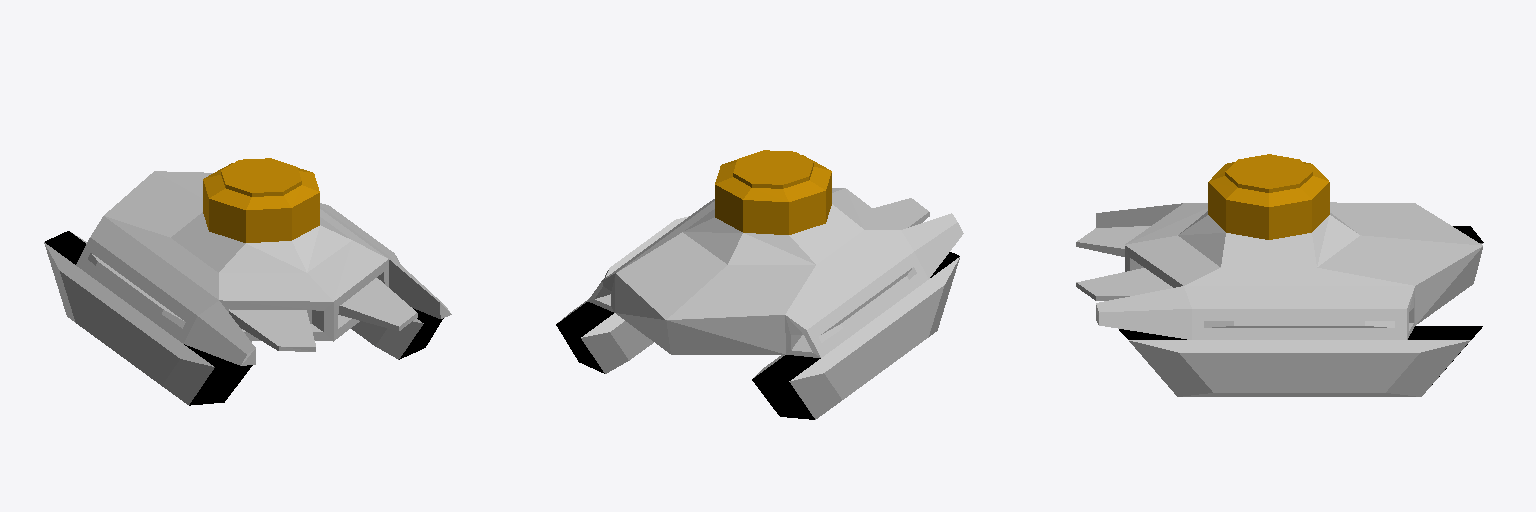
The model's file is tank.obj.
3 renders of one model, left to right at view 1: azimuth 30°, elevation 25°; view 2: azimuth 150°, elevation 25°; view 3: azimuth 270°, elevation 25°, orthographic.
Visible parts, largest first — view 1: Cube; view 2: Cube; view 3: Cube.
Part boxes in pixels (bbox=[...]): Cube: bbox=[44, 158, 451, 405]; Cube: bbox=[556, 150, 963, 419]; Cube: bbox=[1076, 154, 1483, 396].
Bounding box in the file's own units: 3.25 × 2.06 × 4.5.